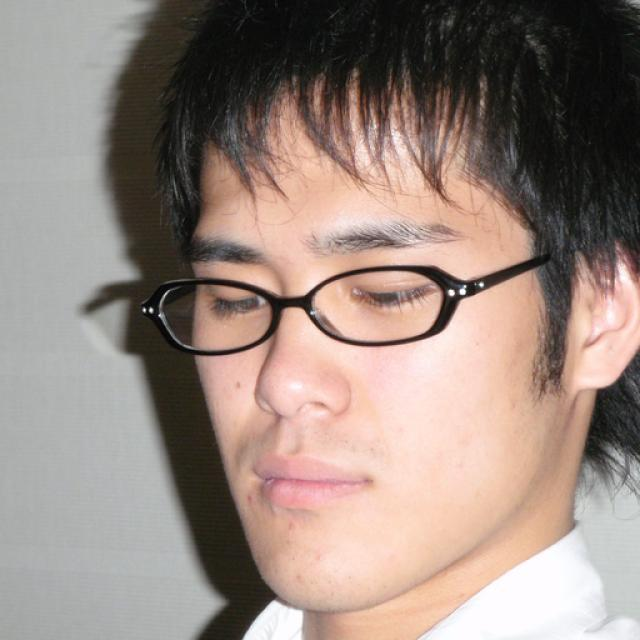neutral: (190, 56, 566, 610)
